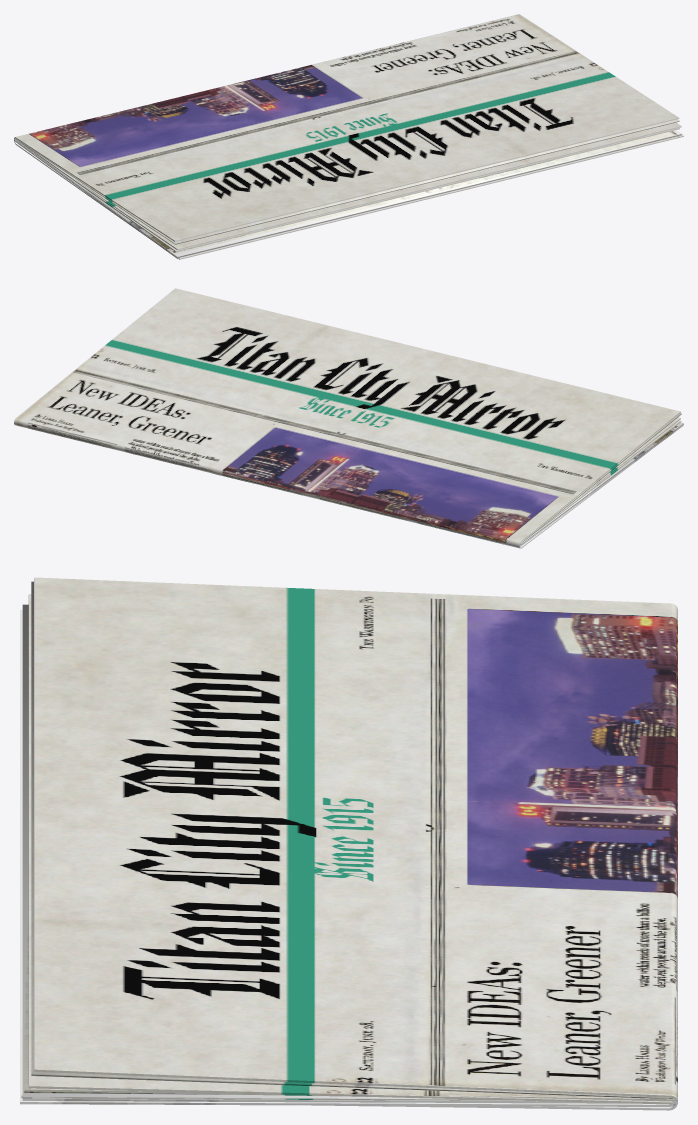
File: Newspaper.fbx
3 views of the same model, one above another, from view 1: azimuth 30°, elevation 25°; view 2: azimuth 150°, elevation 25°; view 3: azimuth 270°, elevation 25° (orthographic). The views are drawn at different scales.
Visible parts, largest first — view 1: Root, Child 1, Child 2, Child 3; view 2: Root, Child 1, Child 3; view 3: Root, Child 2, Child 1, Child 3, Child 4.
Part boxes in pixels (<box>): Root: <box>14,14,679,241</box>; Child 1: <box>14,119,681,257</box>; Child 2: <box>73,122,683,259</box>; Child 3: <box>20,128,682,258</box>; Root: <box>14,288,682,548</box>; Child 1: <box>520,413,683,544</box>; Child 3: <box>525,420,681,540</box>; Root: <box>34,577,677,1110</box>; Child 2: <box>20,594,672,1106</box>; Child 1: <box>22,581,673,1099</box>; Child 3: <box>22,1088,675,1103</box>; Child 4: <box>32,1097,675,1104</box>.
Bounding box in the file's own units: 201 × 7.74 × 113.
